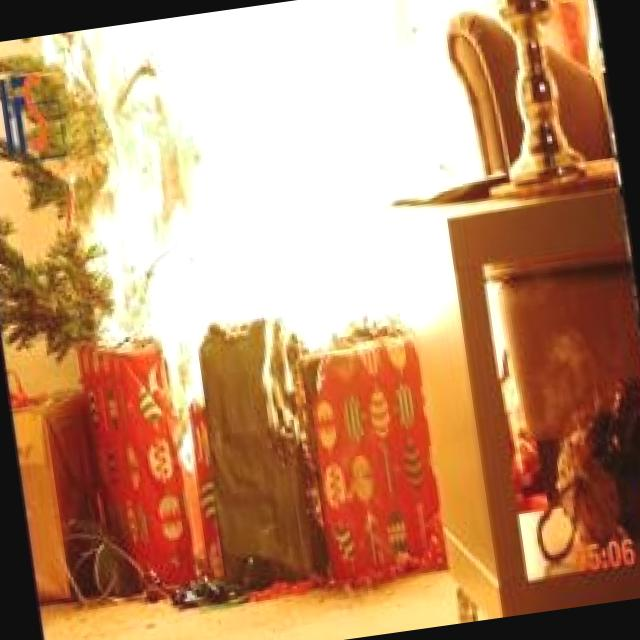fire: (28, 0, 574, 406)
